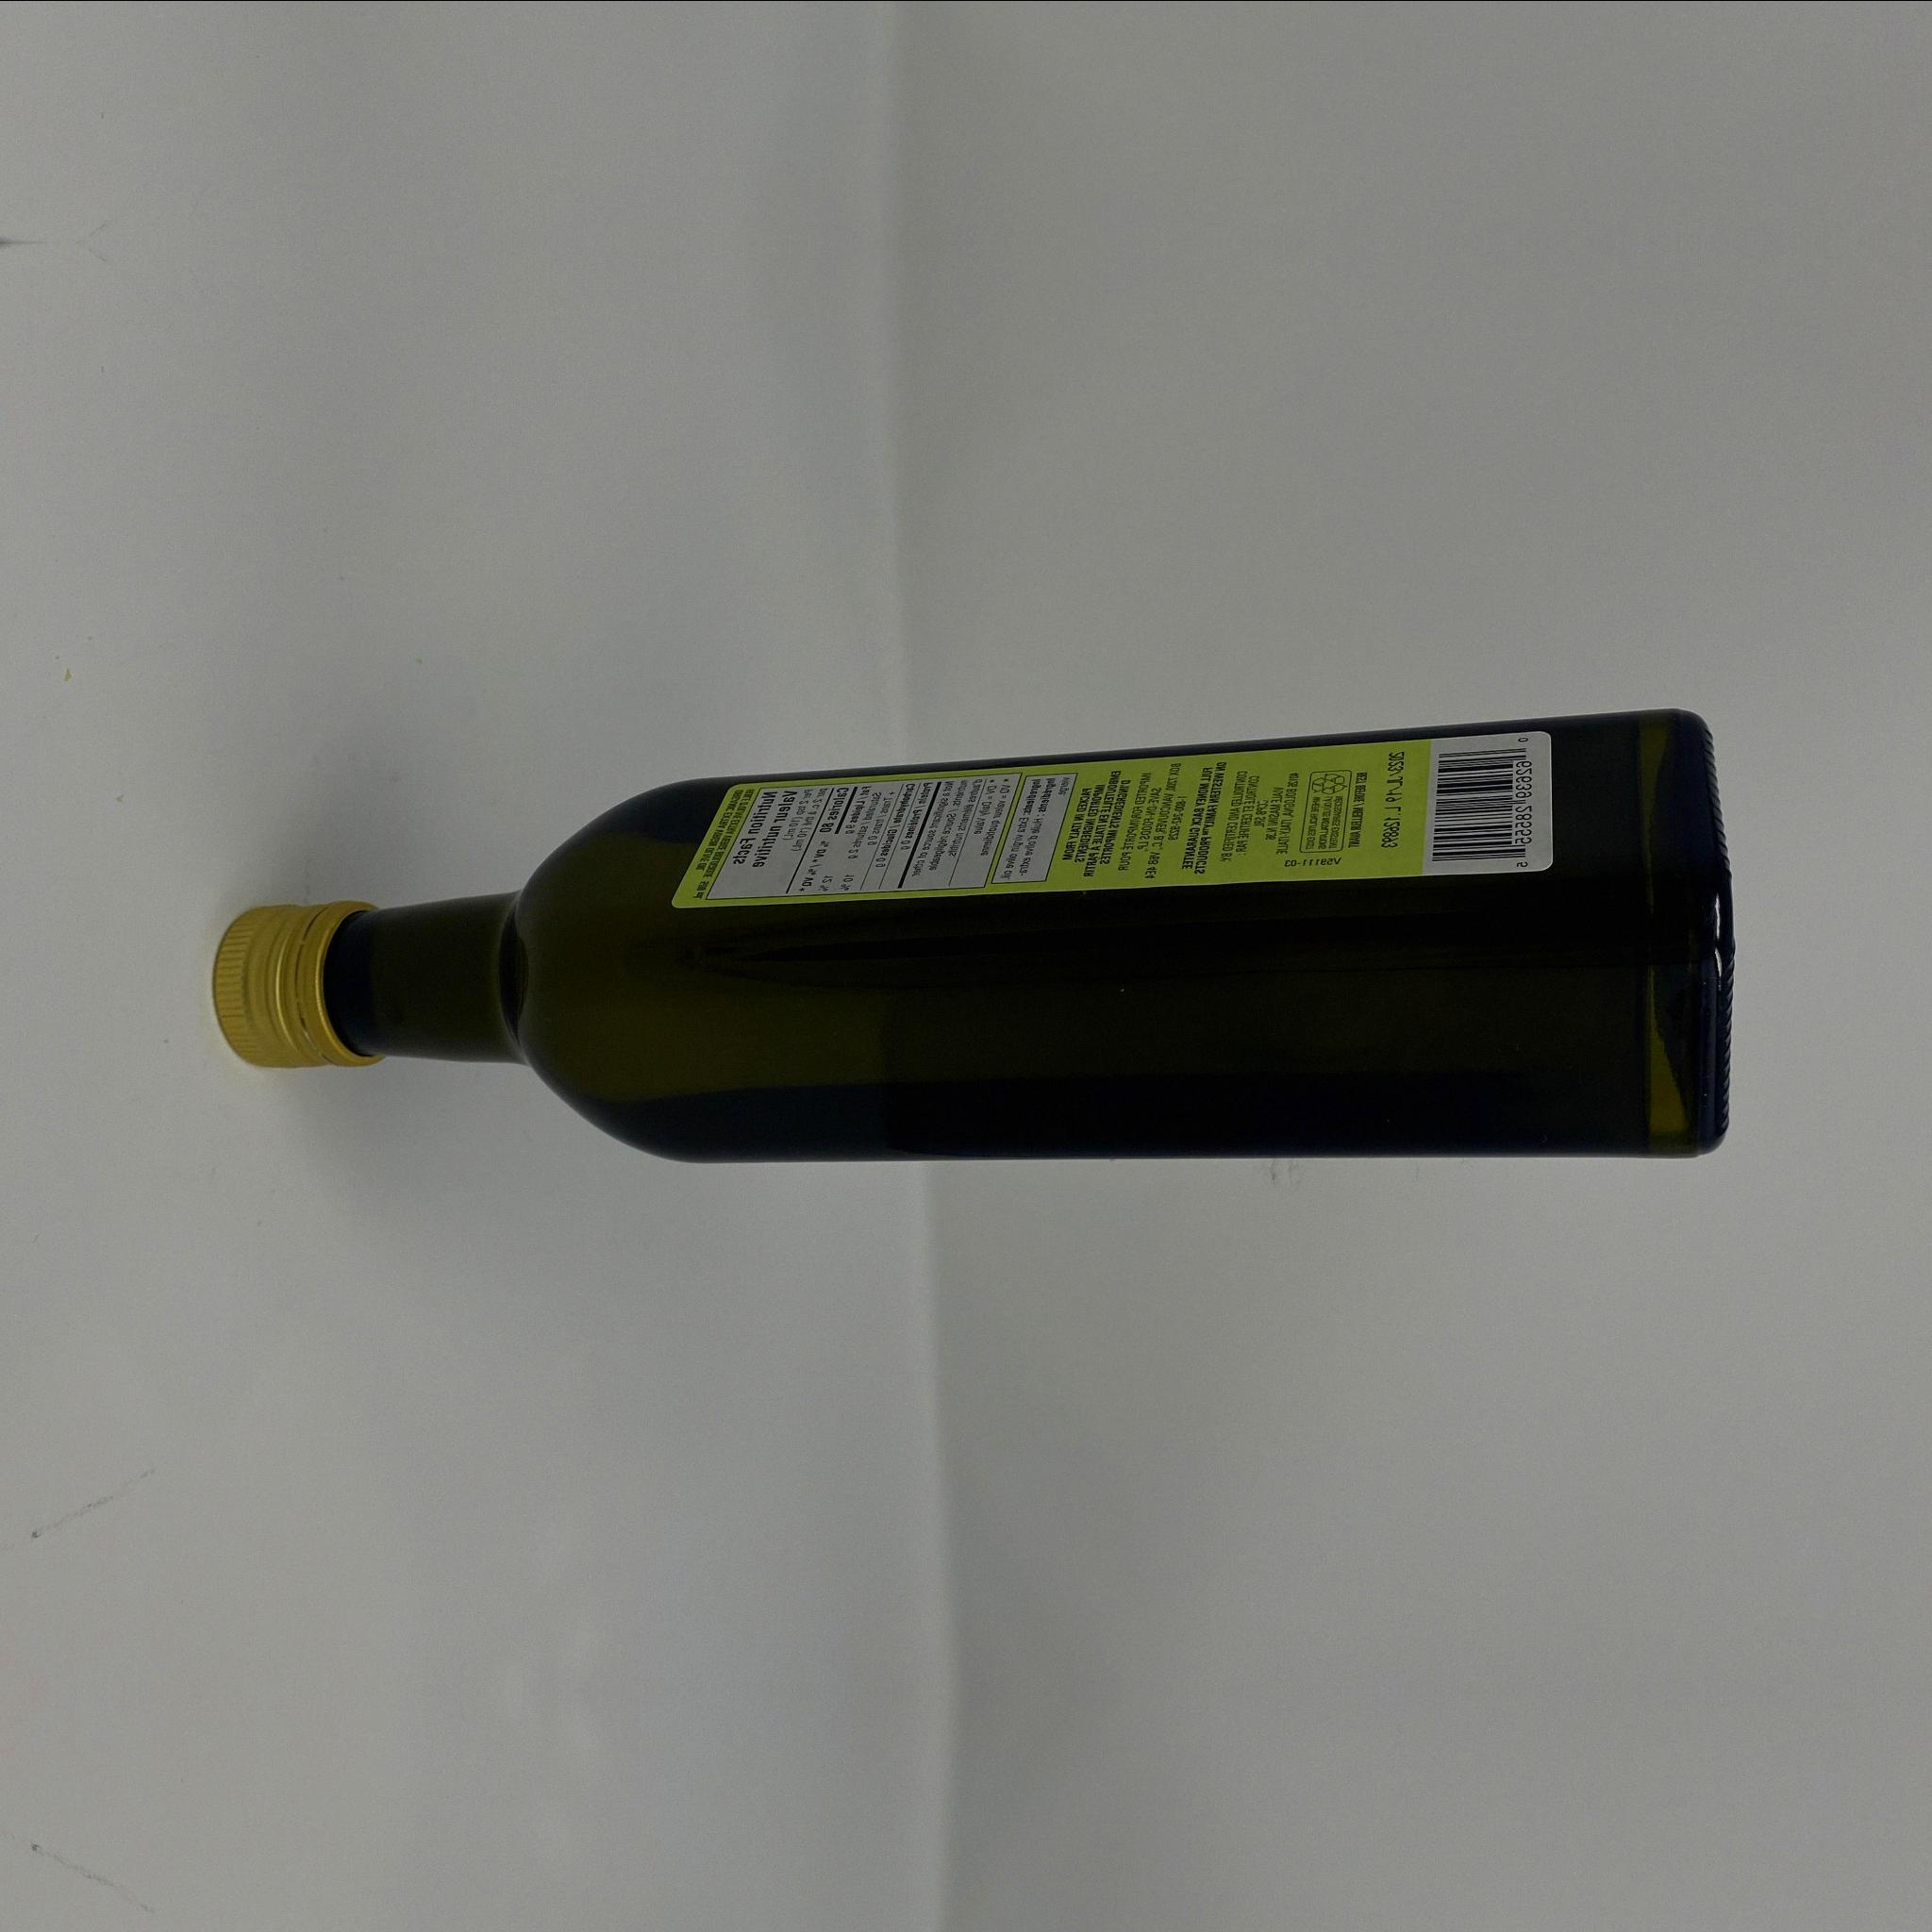glass: (214, 708, 1739, 1164)
oil: (214, 708, 1739, 1164)
sodocalcique: (214, 708, 1739, 1164)
